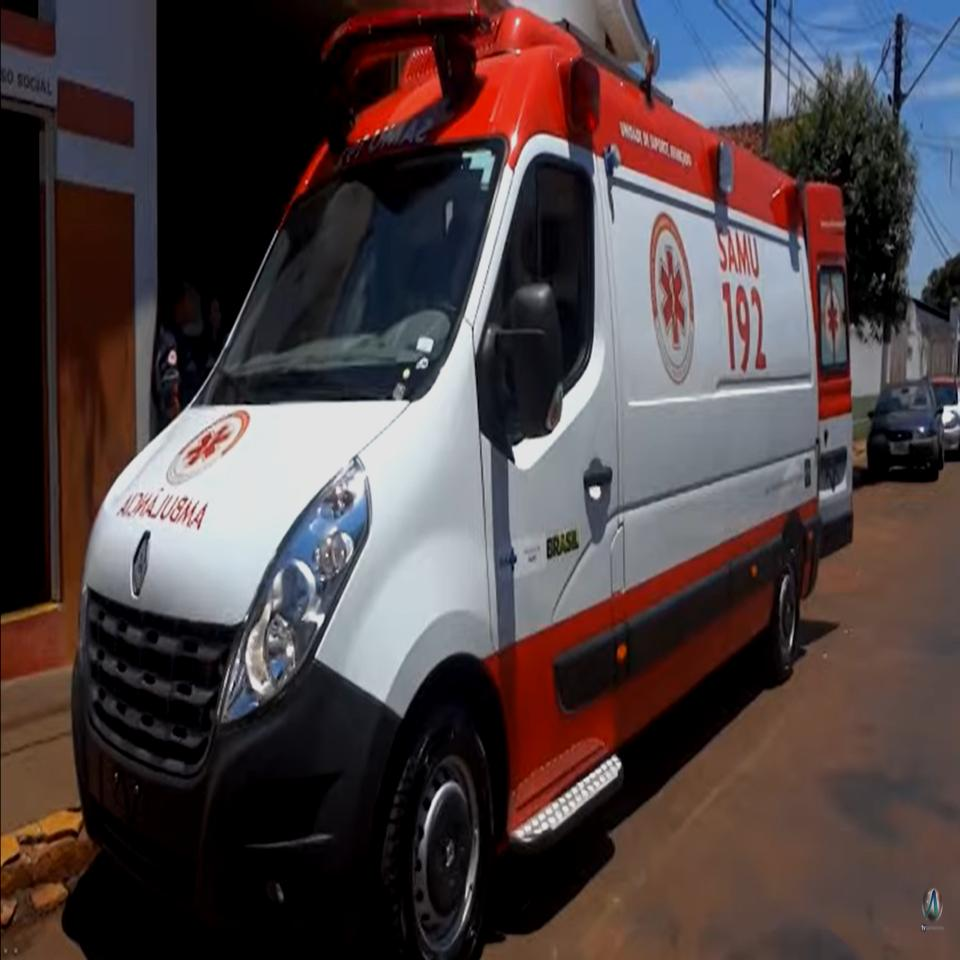ambulancia: (64, 0, 852, 960)
